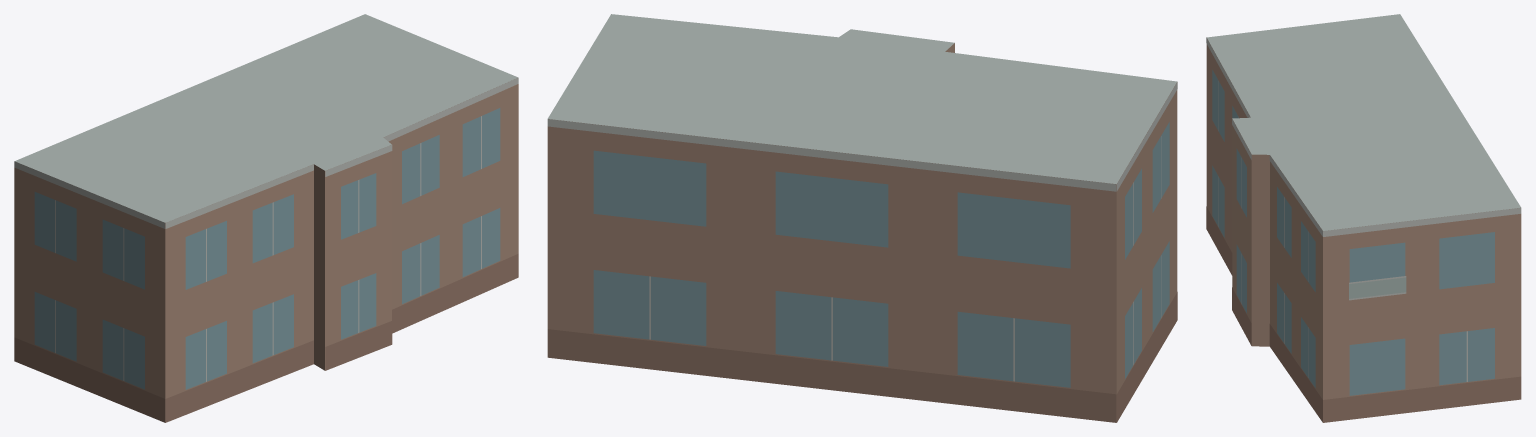
File: survey-upis-32616409.glb
The picture shows the model from 3 angles, left to right: view 1: azimuth 30°, elevation 25°; view 2: azimuth 150°, elevation 25°; view 3: azimuth 270°, elevation 25°; orthographic projection. The views are drawn at different scales.
Visible parts, largest first — view 1: survey-upis-32616409.tmp; view 2: survey-upis-32616409.tmp; view 3: survey-upis-32616409.tmp.
Part boxes in pixels (bbox=[...]): survey-upis-32616409.tmp: bbox=[14, 14, 518, 422]; survey-upis-32616409.tmp: bbox=[547, 14, 1177, 422]; survey-upis-32616409.tmp: bbox=[1206, 14, 1521, 422].
Size of the model in its own units: 18.7 by 7.7 by 11.46.
